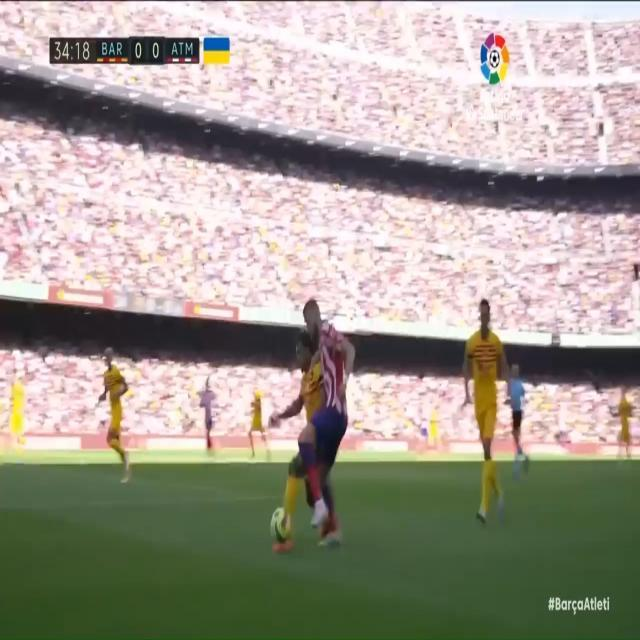ball: (267, 493, 293, 554)
player: (454, 266, 509, 529), (303, 283, 358, 546), (264, 339, 323, 562), (91, 346, 133, 488), (602, 370, 636, 469), (238, 368, 271, 463), (5, 356, 31, 473), (192, 370, 220, 462)
referee: (506, 355, 529, 470)
